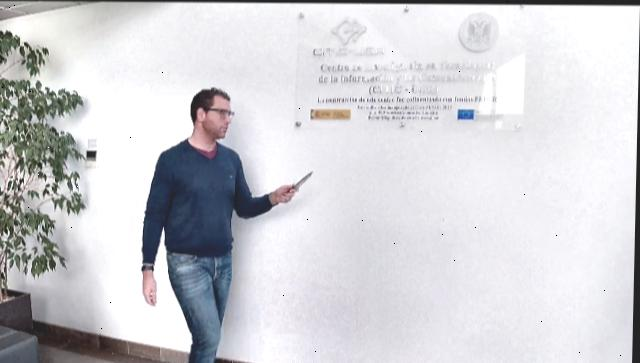pocket-knife: (280, 162, 318, 201)
